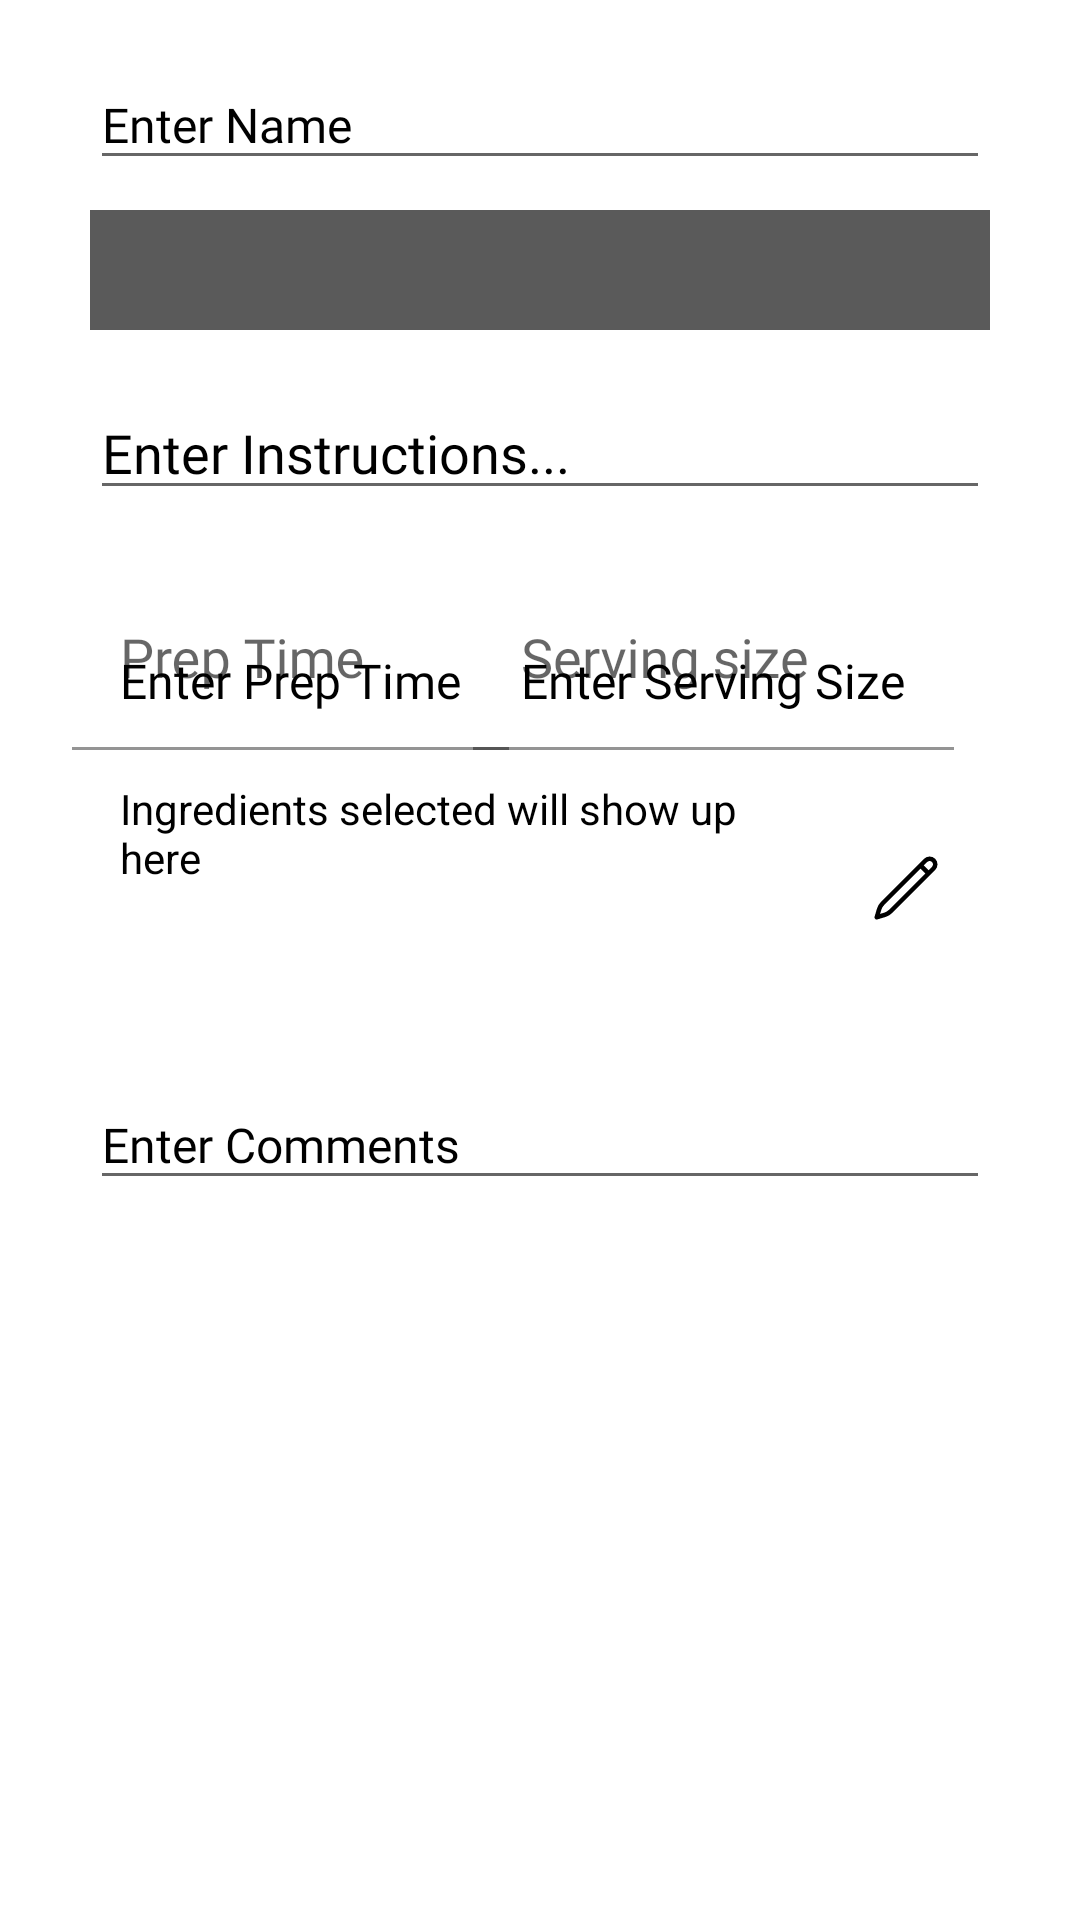

Point at icon controls on the screen. Image size 1080x1920, points as (x,y).
pencil: (906,888)
